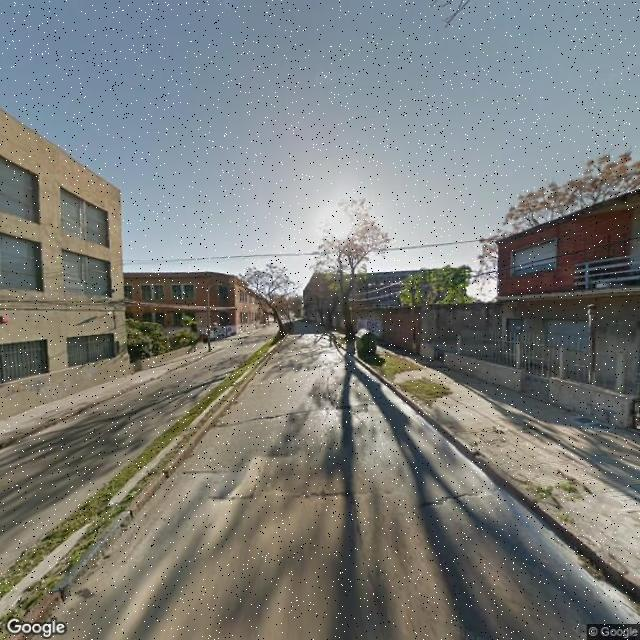garbage container: (351, 324, 386, 363)
